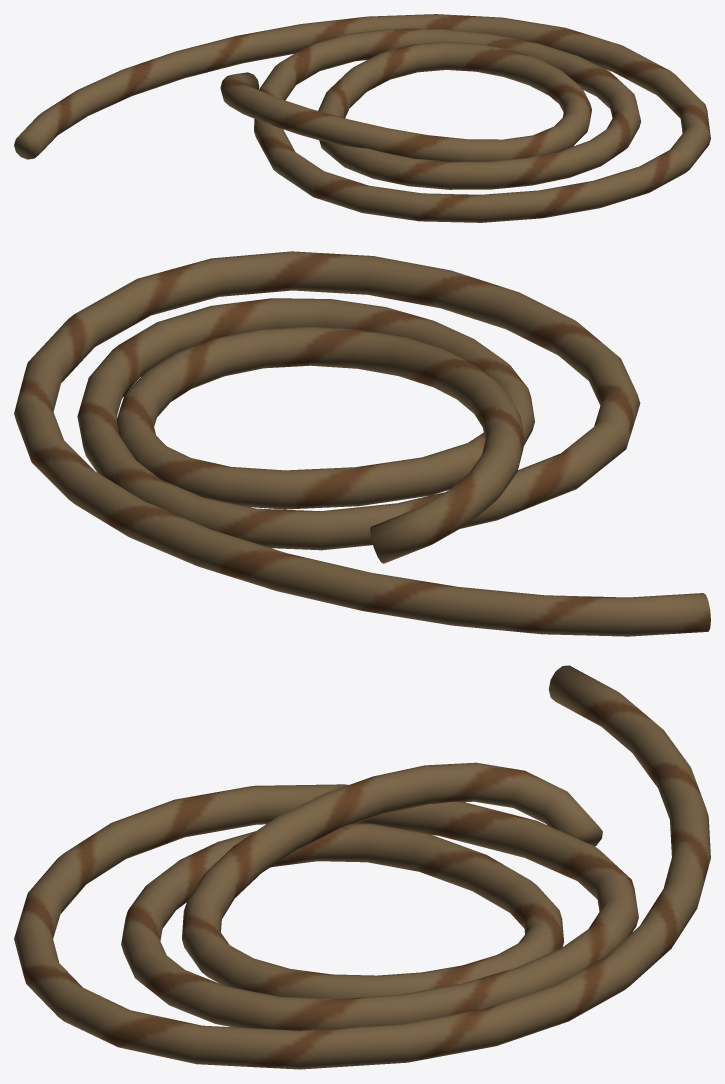
Rendered from Rope_3.gltf.
3 renders of one model, top to bottom at view 1: azimuth 30°, elevation 25°; view 2: azimuth 150°, elevation 25°; view 3: azimuth 270°, elevation 25°, orthographic. The views are drawn at different scales.
Parts seen in each view (by area): view 1: Rope_3; view 2: Rope_3; view 3: Rope_3.
Boxes of the visible parts, x1,y1,x2,y2 form: Rope_3: [14, 14, 710, 222]; Rope_3: [14, 251, 710, 636]; Rope_3: [14, 665, 710, 1069].
Size of the model in its own units: 1.23 by 0.1018 by 0.9508.
Materials: 1 (1 with a texture image).
